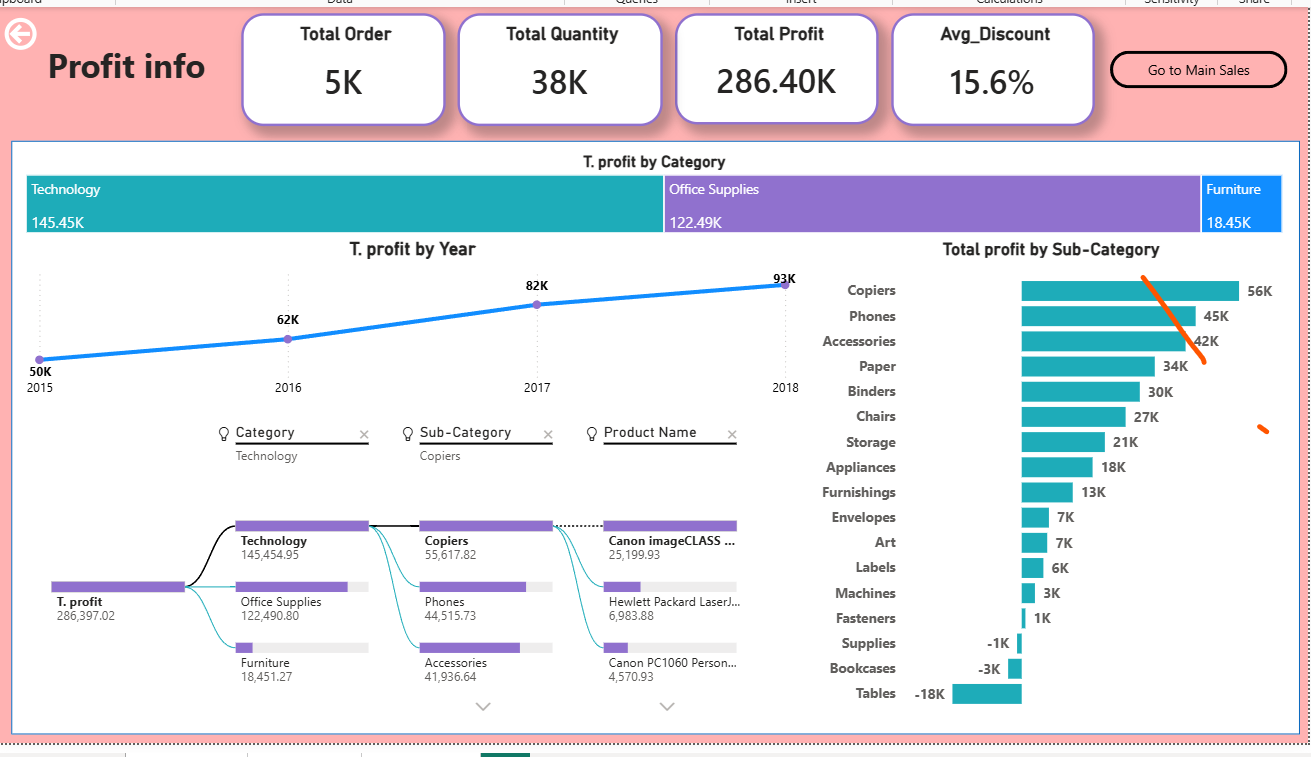

What the dashboard file says about the page in this screenshot:
{"tool":"powerbi","page":{"name":"Profit info","canvas":[1280,720],"ordinal":2},"visuals":[{"type":"textbox","box":[41.2,30.2,194.9,100.2],"z":0},{"type":"actionButton","box":[0,6.1,41.6,40.4],"z":1000},{"type":"cardVisual","title":"Total Order","fields":{"Data":["Measure.T_Order"]},"box":[236,6.1,200,110],"z":2000},{"type":"cardVisual","title":"Total Profit","fields":{"Data":["Measure.T. profit"]},"box":[660.6,6.1,199.3,108.8],"z":3000},{"type":"cardVisual","title":"Avg_Discount","fields":{"Data":["Measure.avg_Discount"]},"box":[871.9,6.1,199.3,110.1],"z":4000},{"type":"cardVisual","title":"Total Quantity","fields":{"Data":["Measure.T_Quantity"]},"box":[448,6.1,200.5,110.1],"z":5000},{"type":"shape","box":[11,130.8,1260.7,580.8],"z":6000},{"type":"actionButton","box":[1085.9,42.8,173.6,36.7],"z":7000},{"type":"treemap","fields":{"Group":["Product_Dim.Category"],"Values":["Measure.T. profit"]},"box":[20.8,141.8,1238.7,84.4],"z":8000},{"type":"decompositionTreeVisual","fields":{"Analyze":["Measure.T. profit"],"ExplainBy":["Product_Dim.Category","Product_Dim.Sub-Category","Product_Dim.Product Name"]},"box":[20.8,391.3,739.8,305.7],"z":9000},{"type":"clusteredBarChart","title":"Total profit by Sub-Category","fields":{"Y":["Measure.T. profit"],"Category":["Product_Dim.Sub-Category"]},"box":[797.3,226.2,462.2,470.8],"z":10000},{"type":"lineChart","fields":{"Y":["Measure.T. profit"],"Category":["OrderDate_Dim.Order Date.Variation.Date Hierarchy.Year","OrderDate_Dim.Order Date.Variation.Date Hierarchy.Quarter","OrderDate_Dim.Order Date.Variation.Date Hierarchy.Month"]},"box":[20.8,226.2,765.5,165.1],"z":11000}]}

Visuals, with their boxes on the page's 1280x720 design canvas (x1, y1, x2, y2). These are canvas units, not pixel positions in the 1311x757 screenshot, which may show the page scaled, cropped or inside an application window:
textbox: Rect(41, 30, 236, 130)
actionButton: Rect(0, 6, 42, 46)
"Total Order" cardVisual: Rect(236, 6, 436, 116)
"Total Profit" cardVisual: Rect(661, 6, 860, 115)
"Avg_Discount" cardVisual: Rect(872, 6, 1071, 116)
"Total Quantity" cardVisual: Rect(448, 6, 648, 116)
shape: Rect(11, 131, 1272, 712)
actionButton: Rect(1086, 43, 1260, 80)
treemap - Product_Dim.Category x Measure.T. profit: Rect(21, 142, 1260, 226)
decompositionTreeVisual - Measure.T. profit x Product_Dim.Category: Rect(21, 391, 761, 697)
"Total profit by Sub-Category" clusteredBarChart: Rect(797, 226, 1260, 697)
lineChart - Measure.T. profit x OrderDate_Dim.Order Date.Variation.Date Hierarchy.Year: Rect(21, 226, 786, 391)
